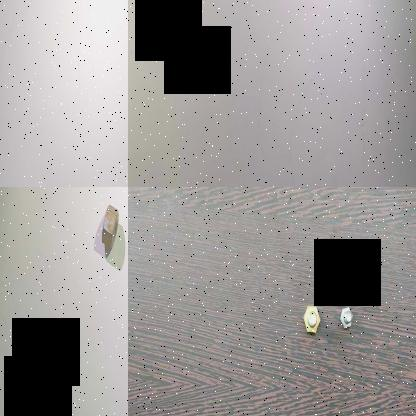Bolts: (301, 300, 321, 334), (338, 298, 354, 334)
NUTS: (100, 196, 120, 254)
